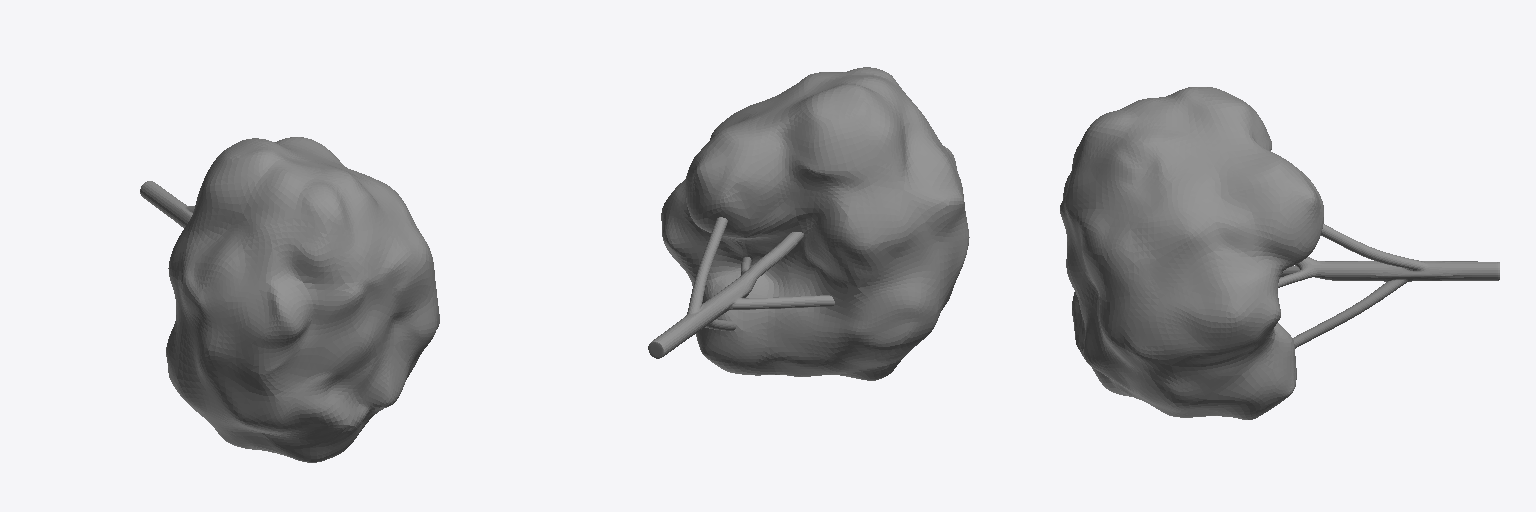
File: plum.obj
3 views of the same model, side by side, from view 1: azimuth 30°, elevation 25°; view 2: azimuth 150°, elevation 25°; view 3: azimuth 270°, elevation 25° (orthographic).
Visible parts, largest first — view 1: 10448_Purple_Leaf_Plum_Tree_v1; view 2: 10448_Purple_Leaf_Plum_Tree_v1; view 3: 10448_Purple_Leaf_Plum_Tree_v1.
Boxes of the visible parts, <box> form: 10448_Purple_Leaf_Plum_Tree_v1: <box>140,137,439,462</box>; 10448_Purple_Leaf_Plum_Tree_v1: <box>648,67,969,380</box>; 10448_Purple_Leaf_Plum_Tree_v1: <box>1060,87,1499,419</box>.
Bounding box in the file's own units: 223 × 244 × 332.